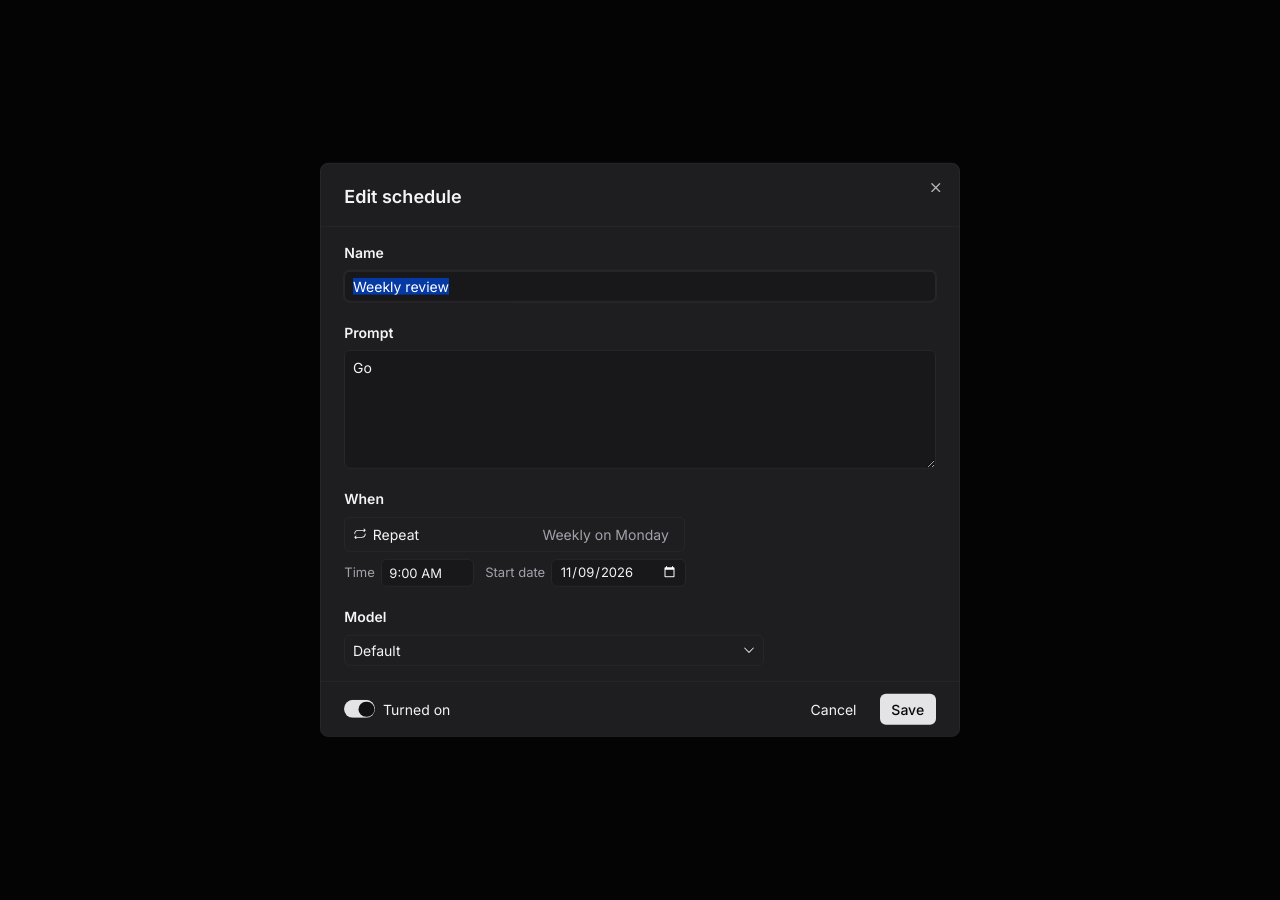
ScheduleDialog › test a 409 reloads and asks to save again
This screenshot has width=1280, height=900.
Later steps or results of the test are not shown.
Click the button "Save".
click(908, 709)  # box [880,694,936,725]
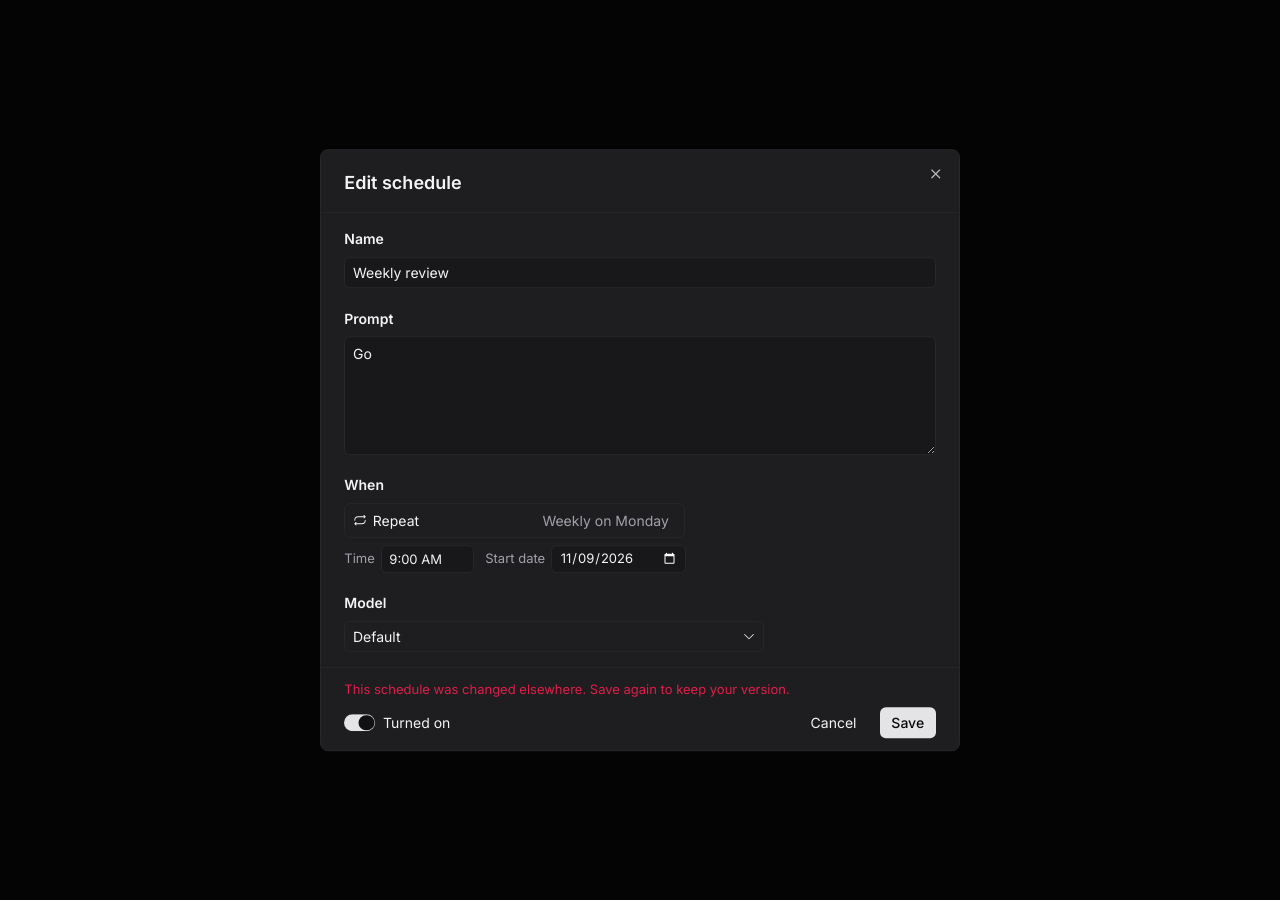
Check: the message reads "This schedule was changed elsewhere. Save again to keep your version.", box [344,681,790,697]
